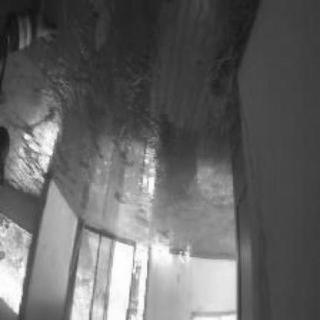other: (144, 242, 196, 269)
